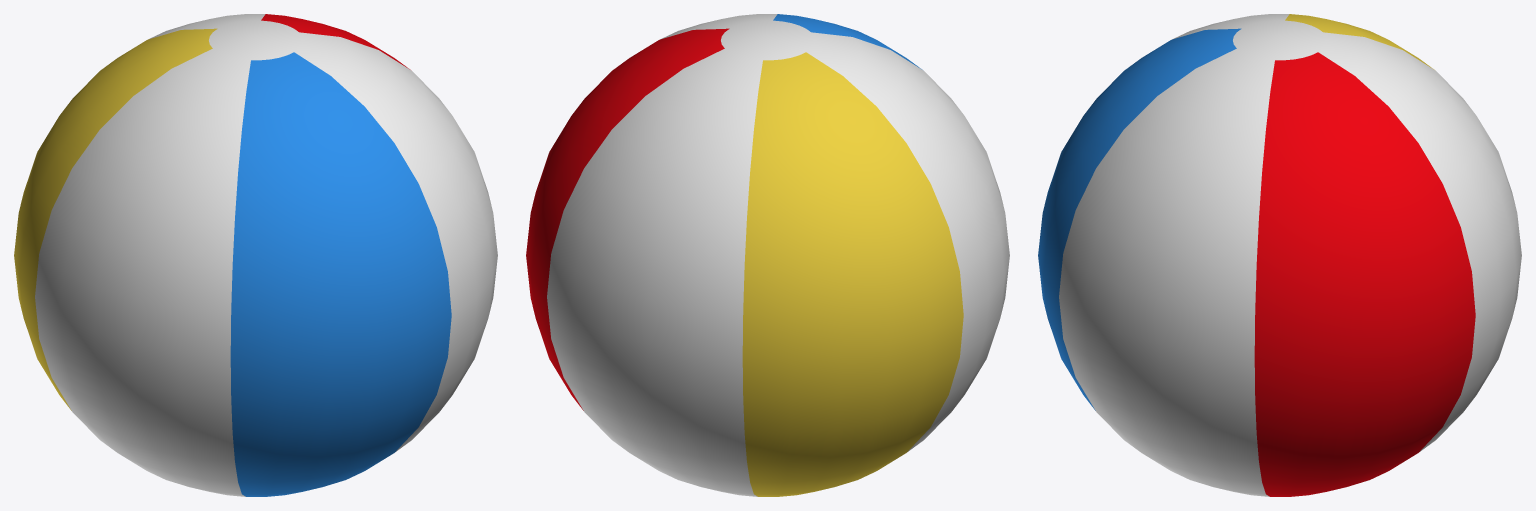
File: BallModel.fbx
3 renders of one model, left to right at view 1: azimuth 30°, elevation 25°; view 2: azimuth 150°, elevation 25°; view 3: azimuth 270°, elevation 25°, orthographic.
Visible parts, largest first — view 1: Sphere; view 2: Sphere; view 3: Sphere.
Boxes of the visible parts, x1,y1,x2,y2 form: Sphere: (14,14,497,496); Sphere: (526,14,1009,496); Sphere: (1038,14,1521,496).
Bounding box in the file's own units: 199 × 200 × 200.
